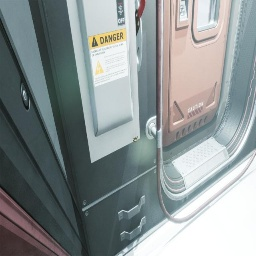SafetySwitchPanel ,: (66, 0, 145, 163)
